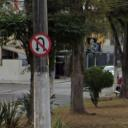NoVirarU: (30, 32, 51, 55)
